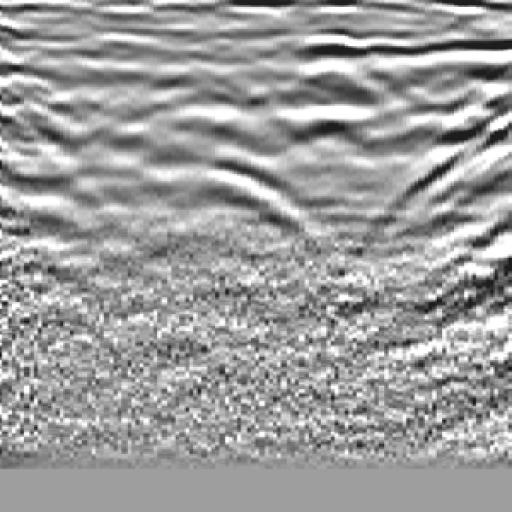metalic: (149, 32, 324, 284)
nonmetalic: (421, 27, 512, 271)
